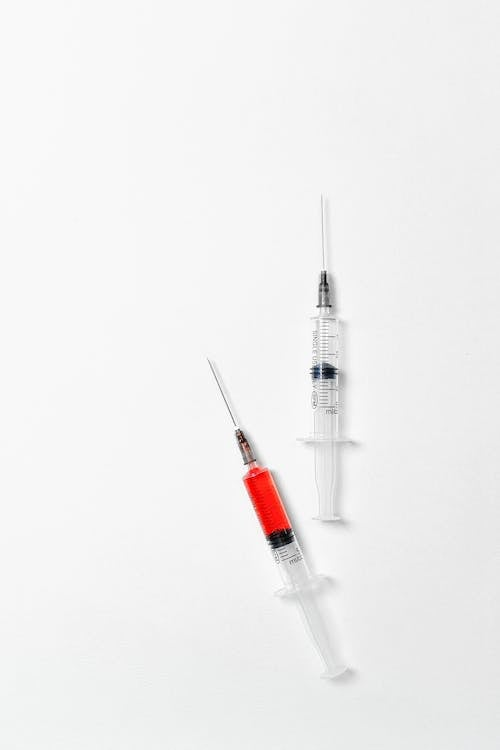blood: (232, 426, 298, 556)
